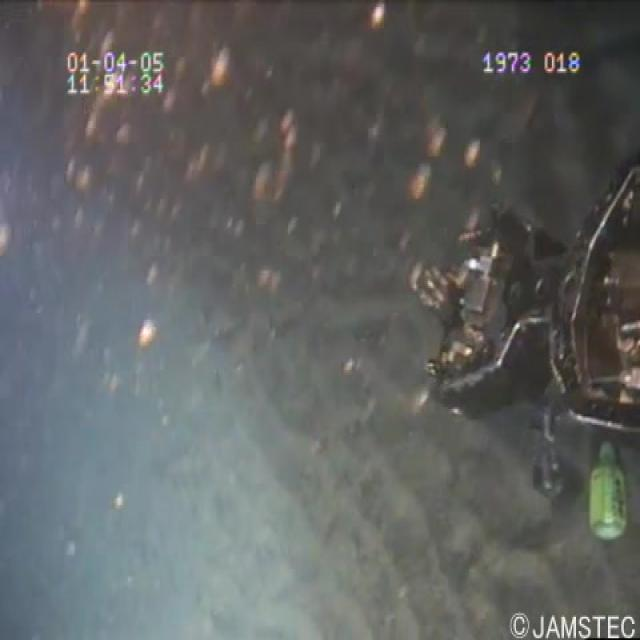plastic: (581, 430, 631, 546)
